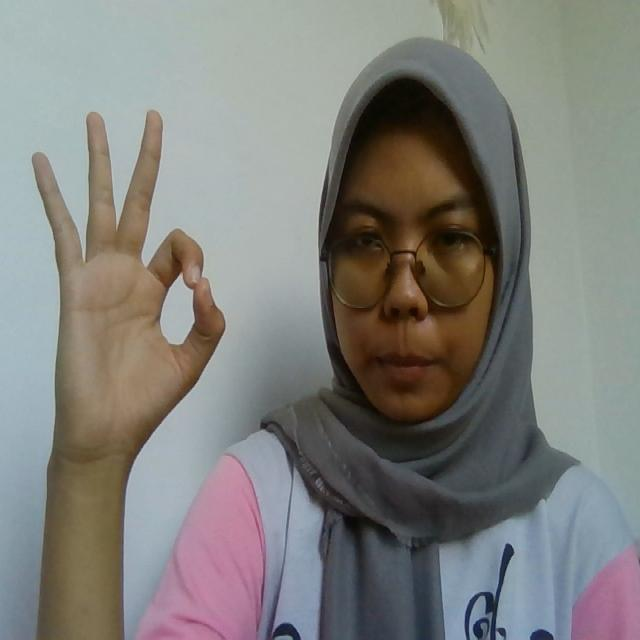F: (30, 107, 229, 453)
